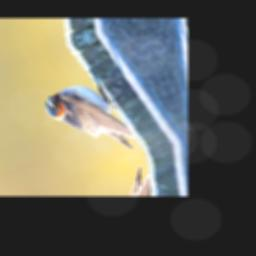Swallow: (41, 70, 142, 173)
